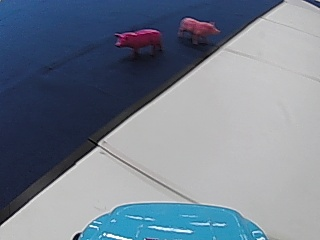pig: (111, 25, 163, 60), (176, 13, 220, 47)
